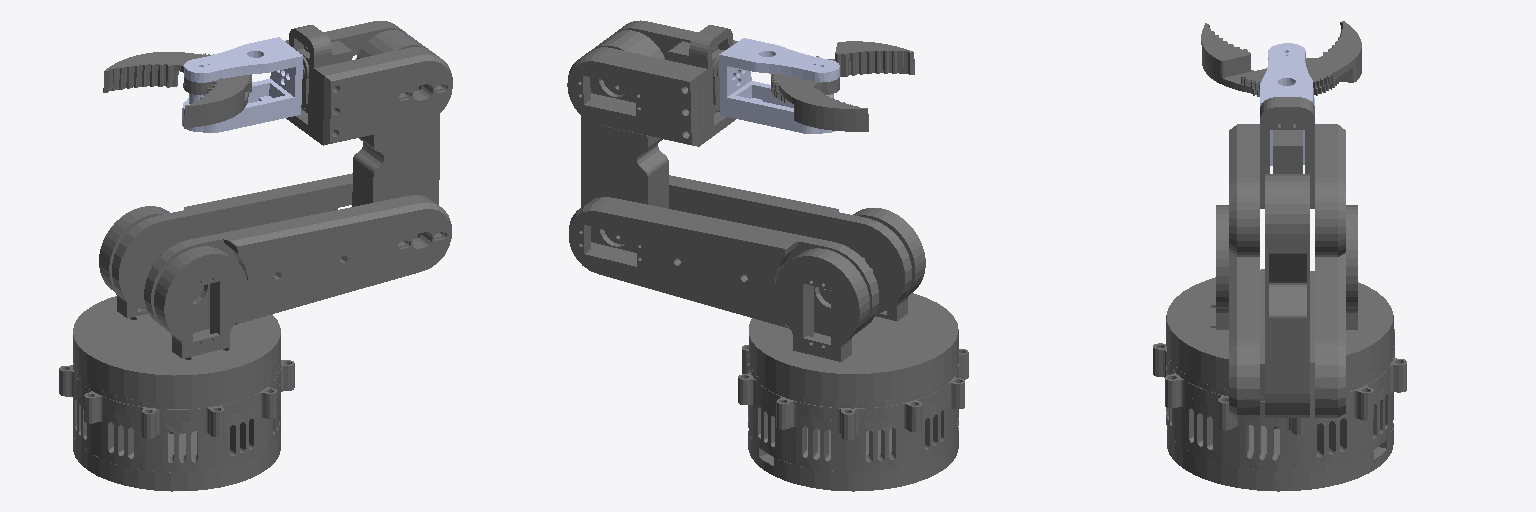
robot.urdf — raatt:
<?xml version="1.0" encoding="utf-8"?>
<!-- This URDF was automatically created by SolidWorks to URDF Exporter! Originally created by [author] ([email redacted]) 
     Commit Version: 1.5.1-0-g916b5db  Build Version: 1.5.7152.31018
     For more information, please see http://wiki.ros.org/sw_urdf_exporter -->
<robot
  name="raatt">
  <link
    name="base_link">
    <inertial>
      <origin
        xyz="-0.000302669236743502 -0.000454528374252028 0.0302331732142673"
        rpy="0 0 0" />
      <mass
        value="0.555206588896969" />
      <inertia
        ixx="0.000998098210823024"
        ixy="1.36920441221066E-05"
        ixz="2.7862324634259E-07"
        iyy="0.00100566469500133"
        iyz="6.05386059861254E-07"
        izz="0.00194501574962432" />
    </inertial>
    <visual>
      <origin
        xyz="0 0 0"
        rpy="0 0 0" />
      <geometry>
        <mesh
          filename="package://raatt/meshes/base_link.STL" />
      </geometry>
      <material
        name="">
        <color
          rgba="0.501960784313725 0.501960784313725 0.501960784313725 1" />
      </material>
    </visual>
    <collision>
      <origin
        xyz="0 0 0"
        rpy="0 0 0" />
      <geometry>
        <mesh
          filename="package://raatt/meshes/base_link.STL" />
      </geometry>
    </collision>
  </link>
  
  <link
    name="BL1">
    <inertial>
      <origin
        xyz="-0.000931439723598049 0.0288301747857007 0.000625090792673172"
        rpy="0 0 0" />
      <mass
        value="0.368463521363485" />
      <inertia
        ixx="0.000580652751011535"
        ixy="9.15043727846987E-08"
        ixz="-1.60101727427303E-05"
        iyy="0.00101850958801346"
        iyz="1.68708383603245E-07"
        izz="0.000559818113733064" />
    </inertial>
    <visual>
      <origin
        xyz="0 0 0"
        rpy="0 0 0" />
      <geometry>
        <mesh
          filename="package://raatt/meshes/BL1.STL" />
      </geometry>
      <material
        name="">
        <color
          rgba="0.501960784313725 0.501960784313725 0.501960784313725 1" />
      </material>
    </visual>
    <collision>
      <origin
        xyz="0 0 0"
        rpy="0 0 0" />
      <geometry>
        <mesh
          filename="package://raatt/meshes/BL1.STL" />
      </geometry>
    </collision>
  </link>
  <joint
    name="BJ1"
    type="revolute">
    <origin
      xyz="0 0 0.06525"
      rpy="1.5708 0 -2.0678" />
    <parent
      link="base_link" />
    <child
      link="BL1" />
    <axis
      xyz="0 -1 0" />
    <limit
      lower="0"
      upper="3.14"
      effort="300"
      velocity="3" />
  </joint>
  <link
    name="SHL1">
    <inertial>
      <origin
        xyz="-0.0194204541356304 -2.06501482580279E-14 -0.0932485206316829"
        rpy="0 0 0" />
      <mass
        value="0.454225477654302" />
      <inertia
        ixx="0.00184578782522655"
        ixy="-7.66248022133971E-13"
        ixz="-1.59354016508403E-06"
        iyy="0.00170961107291307"
        iyz="-1.26491075006673E-13"
        izz="0.000165227109359451" />
    </inertial>
    <visual>
      <origin
        xyz="0 0 0"
        rpy="0 0 0" />
      <geometry>
        <mesh
          filename="package://raatt/meshes/SHL1.STL" />
      </geometry>
      <material
        name="">
        <color
          rgba="0.501960784313725 0.501960784313725 0.501960784313725 1" />
      </material>
    </visual>
    <collision>
      <origin
        xyz="0 0 0"
        rpy="0 0 0" />
      <geometry>
        <mesh
          filename="package://raatt/meshes/SHL1.STL" />
      </geometry>
    </collision>
  </link>
  <joint
    name="SHJ1"
    type="revolute">
    <origin
      xyz="-0.020569 0.07 0.011156"
      rpy="0.0014255 -0.49698 3.1416" />
    <parent
      link="BL1" />
    <child
      link="SHL1" />
    <axis
      xyz="-1 0 0" />
    <limit
      lower="0"
      upper="3.14"
      effort="300"
      velocity="3" />
  </joint>
  <link
    name="SHL2">
    <inertial>
      <origin
        xyz="0.000113073323768587 -0.000707151250188692 -0.0578023076202163"
        rpy="0 0 0" />
      <mass
        value="0.233433056175268" />
      <inertia
        ixx="0.000571109636740069"
        ixy="-1.86652936949485E-08"
        ixz="2.50143892080072E-08"
        iyy="0.000533764178562199"
        iyz="-4.65917846589028E-06"
        izz="7.15009693491391E-05" />
    </inertial>
    <visual>
      <origin
        xyz="0 0 0"
        rpy="0 0 0" />
      <geometry>
        <mesh
          filename="package://raatt/meshes/SHL2.STL" />
      </geometry>
      <material
        name="">
        <color
          rgba="0.501960784313725 0.501960784313725 0.501960784313725 1" />
      </material>
    </visual>
    <collision>
      <origin
        xyz="0 0 0"
        rpy="0 0 0" />
      <geometry>
        <mesh
          filename="package://raatt/meshes/SHL2.STL" />
      </geometry>
    </collision>
  </link>
  <joint
    name="SHJ2"
    type="revolute">
    <origin
      xyz="-0.0184 0 -0.185"
      rpy="-1.566 0 0" />
    <parent
      link="SHL1" />
    <child
      link="SHL2" />
    <axis
      xyz="1 0 0" />
    <limit
      lower="0"
      upper="3.14"
      effort="300"
      velocity="3" />
  </joint>
  <link
    name="SHL3">
    <inertial>
      <origin
        xyz="-0.0203233028780176 0.00214733921697735 -0.0395286263542516"
        rpy="0 0 0" />
      <mass
        value="0.237132435221668" />
      <inertia
        ixx="0.0002320004492489"
        ixy="1.03520826480399E-19"
        ixz="2.51724359465634E-07"
        iyy="0.000175352374553038"
        iyz="6.09805618220377E-08"
        izz="7.77538891579695E-05" />
    </inertial>
    <visual>
      <origin
        xyz="0 0 0"
        rpy="0 0 0" />
      <geometry>
        <mesh
          filename="package://raatt/meshes/SHL3.STL" />
      </geometry>
      <material
        name="">
        <color
          rgba="0.501960784313725 0.501960784313725 0.501960784313725 1" />
      </material>
    </visual>
    <collision>
      <origin
        xyz="0 0 0"
        rpy="0 0 0" />
      <geometry>
        <mesh
          filename="package://raatt/meshes/SHL3.STL" />
      </geometry>
    </collision>
  </link>
  <joint
    name="SHJ3"
    type="revolute">
    <origin
      xyz="0.0184 0 -0.1175"
      rpy="-1.552 0 0" />
    <parent
      link="SHL2" />
    <child
      link="SHL3" />
    <axis
      xyz="1 0 0" />
    <limit
      lower="0"
      upper="3.14"
      effort="300"
      velocity="3" />
  </joint>
  <link
    name="gripper">
    <inertial>
      <origin
        xyz="-0.000280170481696207 0.000930650564398117 -0.0435510954011995"
        rpy="0 0 0" />
      <mass
        value="0.0766357312487326" />
      <inertia
        ixx="6.72458140510462E-05"
        ixy="-1.37997286500542E-07"
        ixz="-8.64833345042674E-09"
        iyy="7.02788089949088E-05"
        iyz="1.90460755775839E-07"
        izz="1.15560232966194E-05" />
    </inertial>
    <visual>
      <origin
        xyz="0 0 0"
        rpy="0 0 0" />
      <geometry>
        <mesh
          filename="package://raatt/meshes/gripper.STL" />
      </geometry>
      <material
        name="">
        <color
          rgba="0.792156862745098 0.819607843137255 0.933333333333333 1" />
      </material>
    </visual>
    <collision>
      <origin
        xyz="0 0 0"
        rpy="0 0 0" />
      <geometry>
        <mesh
          filename="package://raatt/meshes/gripper.STL" />
      </geometry>
    </collision>
  </link>
  <joint
    name="gripper"
    type="revolute">
    <origin
      xyz="-0.0181500000000007 0.0200940202178477 -0.0847372982592163"
      rpy="0 0 -0.0197437393831376" />
    <parent
      link="SHL3" />
    <child
      link="gripper" />
    <axis
      xyz="0 0 1" />
    <limit
      lower="-3.14"
      upper="3.14"
      effort="300"
      velocity="3" />
  </joint>
  <link
    name="rightl">
    <inertial>
      <origin
        xyz="0.0247118483536764 -0.00823308523112631 -0.0391333649027678"
        rpy="0 0 0" />
      <mass
        value="0.0235859031619817" />
      <inertia
        ixx="8.54203976994772E-06"
        ixy="1.41598387894309E-06"
        ixz="7.43420490781539E-06"
        iyy="2.05791952108961E-05"
        iyz="-1.00747556799268E-06"
        izz="1.32376269568841E-05" />
    </inertial>
    <visual>
      <origin
        xyz="0 0 0"
        rpy="0 0 0" />
      <geometry>
        <mesh
          filename="package://raatt/meshes/rightl.STL" />
      </geometry>
      <material
        name="">
        <color
          rgba="0.501960784313725 0.501960784313725 0.501960784313725 1" />
      </material>
    </visual>
    <collision>
      <origin
        xyz="0 0 0"
        rpy="0 0 0" />
      <geometry>
        <mesh
          filename="package://raatt/meshes/rightl.STL" />
      </geometry>
    </collision>
  </link>
  <joint
    name="rightr"
    type="revolute">
    <origin
      xyz="0 0 -0.041231"
      rpy="0 -0.067624 -3.0962" />
    <parent
      link="gripper" />
    <child
      link="rightl" />
    <axis
      xyz="0 1 0" />
    <limit
      lower="-6.28"
      upper="6.28"
      effort="300"
      velocity="30" />
  </joint>
  <link
    name="rightlink">
    <inertial>
      <origin
        xyz="-0.026327915987134 0.00622149064542687 -0.00625801368338987"
        rpy="0 0 0" />
      <mass
        value="0.0235861330582674" />
      <inertia
        ixx="1.13237303851065E-05"
        ixy="1.21176085746744E-06"
        ixz="-7.78414977756974E-06"
        iyy="2.0579098235667E-05"
        iyz="1.24569818531456E-06"
        izz="1.04558506739014E-05" />
    </inertial>
    <visual>
      <origin
        xyz="0 0 0"
        rpy="0 0 0" />
      <geometry>
        <mesh
          filename="package://raatt/meshes/rightlink.STL" />
      </geometry>
      <material
        name="">
        <color
          rgba="0.501960784313725 0.501960784313725 0.501960784313725 1" />
      </material>
    </visual>
    <collision>
      <origin
        xyz="0 0 0"
        rpy="0 0 0" />
      <geometry>
        <mesh
          filename="package://raatt/meshes/rightlink.STL" />
      </geometry>
    </collision>
  </link>
  <joint
    name="leftlink"
    type="revolute">
    <origin
      xyz="-0.00078619 0.011988 -0.079013"
      rpy="0 -0.067624 -3.0962" />
    <parent
      link="gripper" />
    <child
      link="rightlink" />
    <axis
      xyz="0 1 0" />
    <limit
      lower="6.28"
      upper="-6.28"
      effort="300"
      velocity="30" />
  </joint>
</robot>

--- What the picture shows (computed from the rendered views, not written in the file) ---
The picture shows the robot from 3 angles, left to right: view 1: azimuth 30°, elevation 25°; view 2: azimuth 150°, elevation 25°; view 3: azimuth 270°, elevation 25°; orthographic projection.
Robot: raatt — 8 links, 7 joints (7 revolute); root link base_link; default pose: every joint at zero.
Visible links, largest first — view 1: SHL1, BL1, base_link, SHL3, SHL2, gripper, rightlink, rightl; view 2: SHL1, BL1, base_link, SHL3, SHL2, gripper, rightlink, rightl; view 3: base_link, BL1, SHL3, SHL2, SHL1, gripper, rightlink, rightl.
Boxes of the visible links, x1,y1,x2,y2 form: SHL1: [112, 173, 451, 332]; BL1: [73, 206, 280, 433]; base_link: [59, 360, 294, 491]; SHL3: [285, 21, 452, 145]; SHL2: [352, 30, 439, 239]; gripper: [182, 37, 302, 132]; rightlink: [103, 52, 251, 92]; rightl: [183, 78, 251, 128]; SHL1: [569, 175, 911, 336]; BL1: [748, 208, 958, 408]; base_link: [738, 345, 968, 491]; SHL3: [567, 20, 737, 146]; SHL2: [581, 30, 668, 252]; gripper: [719, 38, 839, 133]; rightlink: [771, 56, 868, 131]; rightl: [771, 41, 914, 102]; base_link: [1153, 329, 1406, 491]; BL1: [1166, 205, 1393, 428]; SHL3: [1229, 97, 1345, 256]; SHL2: [1265, 174, 1309, 417]; SHL1: [1229, 253, 1345, 417]; gripper: [1260, 43, 1314, 165]; rightlink: [1241, 21, 1361, 90]; rightl: [1201, 23, 1340, 96].
Bounding box of the posed robot: 0.2971 × 0.1681 × 0.302 m (x, y, z).
8 mesh visuals loaded from 8 distinct referenced files (8 binary STL).
